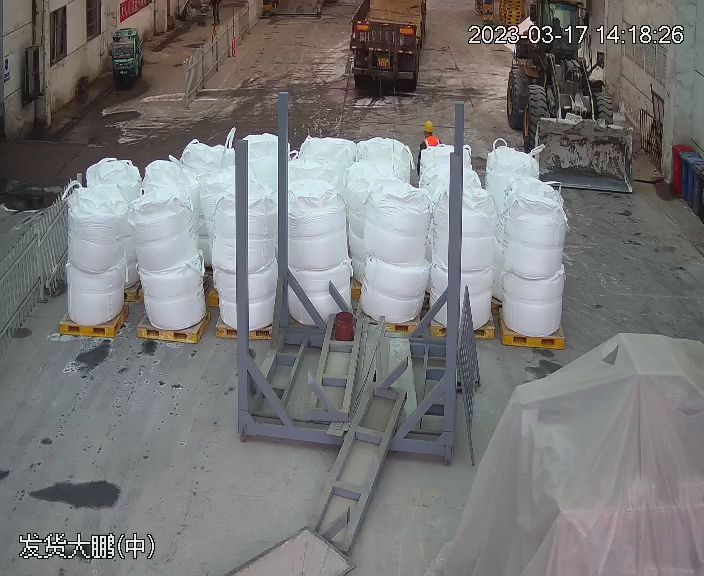head: (419, 120, 444, 150)
helmet: (422, 119, 435, 132)
truck: (346, 1, 430, 86)
